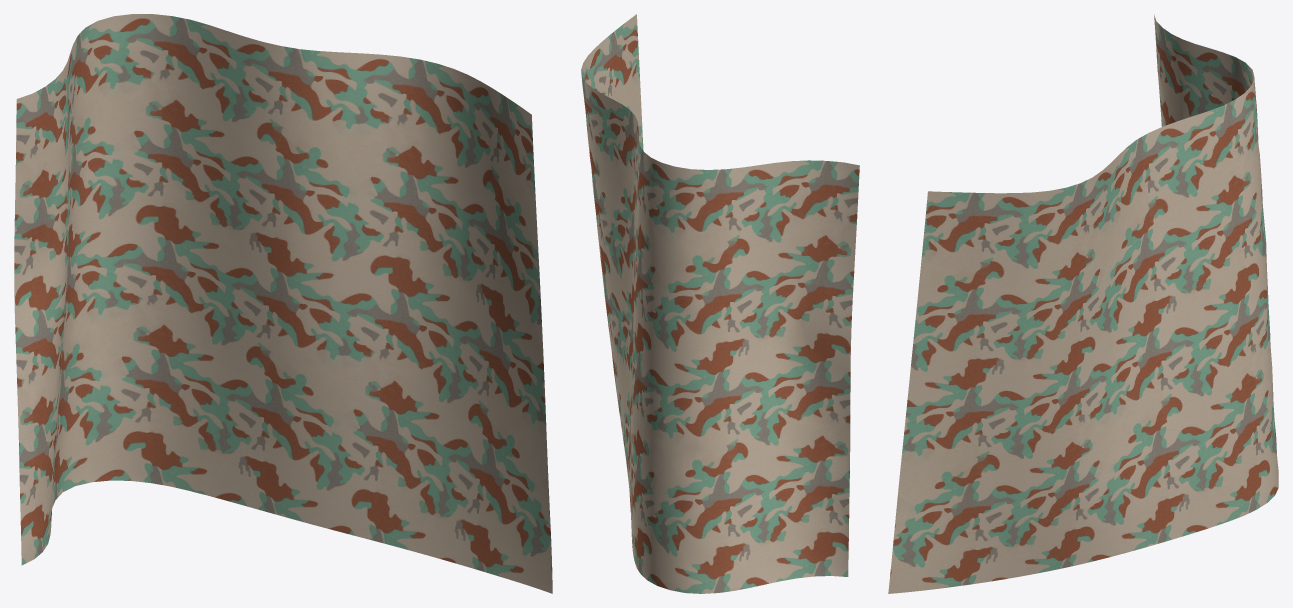
File: sz2houbq.glb
3 views of the same model, side by side, from view 1: azimuth 30°, elevation 25°; view 2: azimuth 150°, elevation 25°; view 3: azimuth 270°, elevation 25° (orthographic). The views are drawn at different scales.
Parts seen in each view (by area): view 1: sz2houbq; view 2: sz2houbq; view 3: sz2houbq.
Part boxes in pixels (x1,y1,x2,y2): sz2houbq: (14, 14, 552, 593); sz2houbq: (581, 14, 859, 593); sz2houbq: (888, 14, 1278, 593).
Bounding box in the file's own units: 1.77 × 2.13 × 1.77.
Materials: 1 (1 with a texture image).
